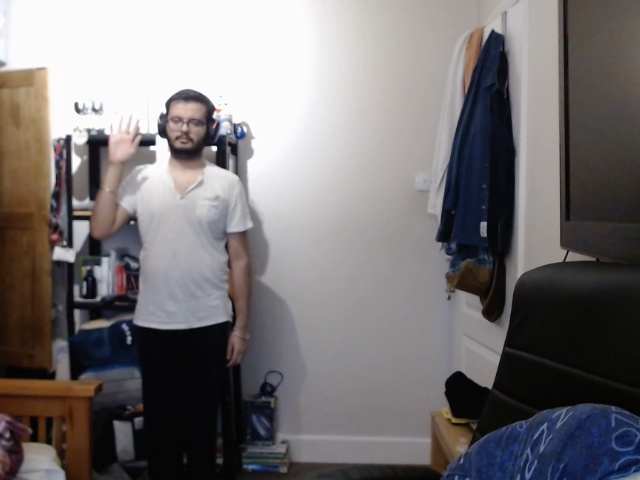Hello: (101, 110, 145, 175)
